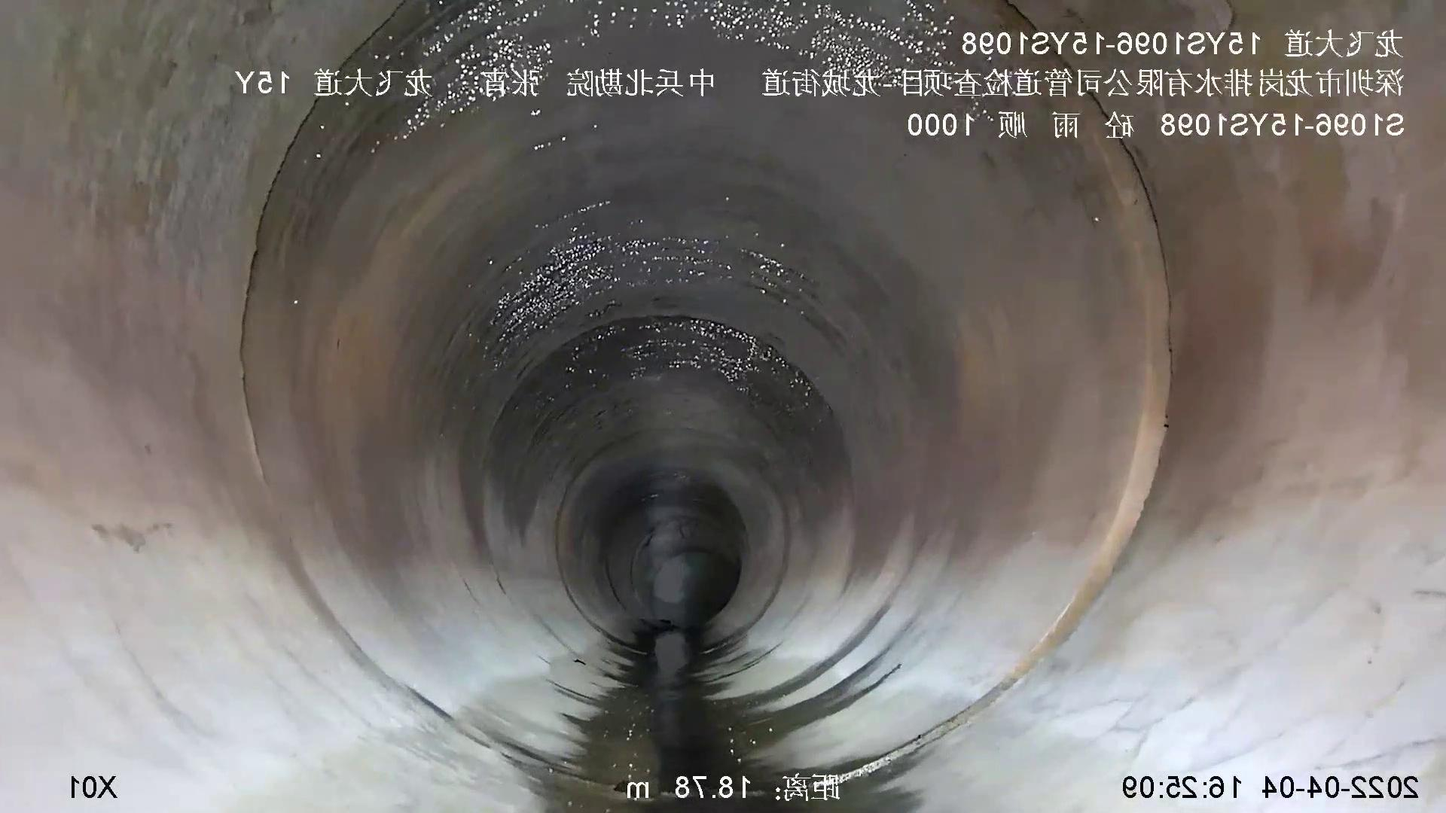CKTJ: (723, 1, 1189, 805)
